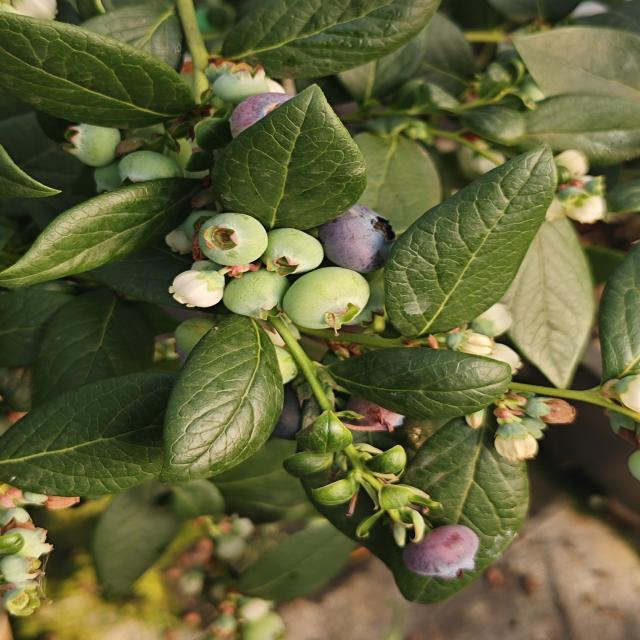ripe: (322, 202, 396, 273), (404, 524, 489, 582)
